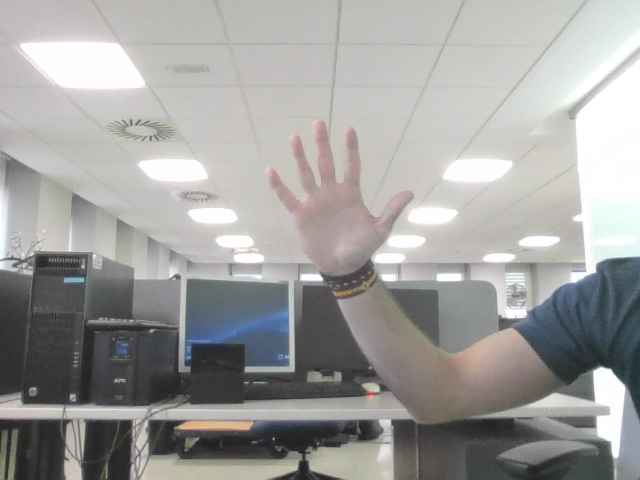Mano Abierta: (277, 132, 399, 245)
